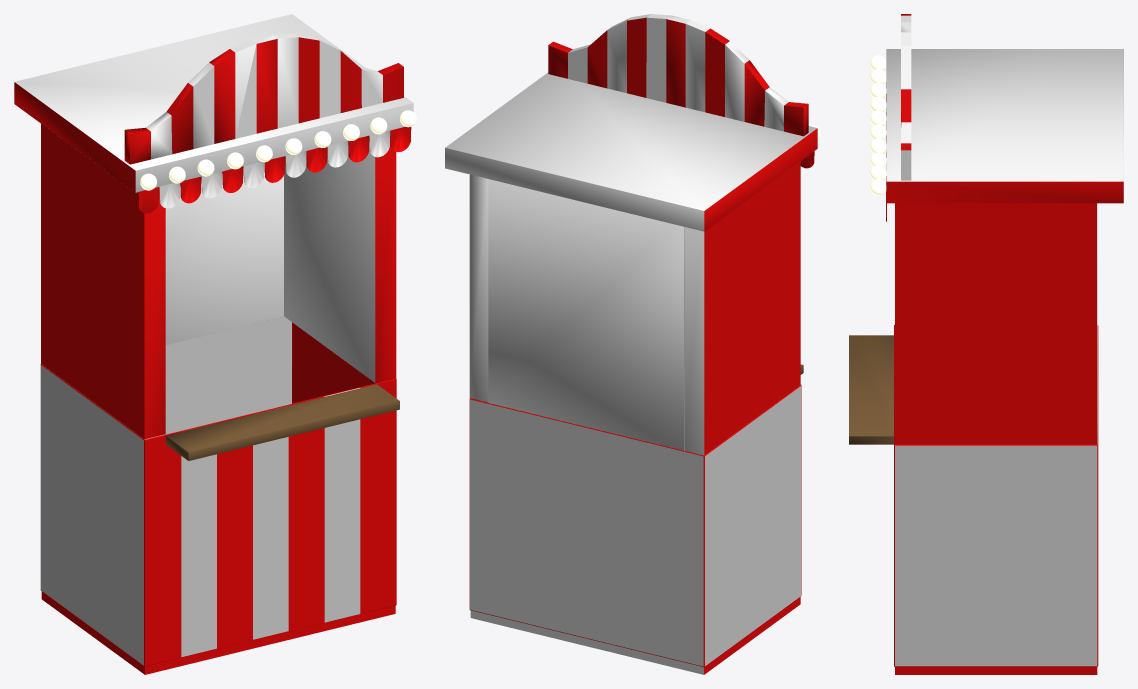
Rendered from gamebooth.glb.
3 renders of one model, left to right at view 1: azimuth 30°, elevation 25°; view 2: azimuth 150°, elevation 25°; view 3: azimuth 270°, elevation 25°, orthographic. The views are drawn at different scales.
Visible parts, largest first — view 1: boothBottom, wallRight, polySurface61, wallLeft, topSign, wallBack, shelf; view 2: boothBottom, wallBack, polySurface61, wallRight, topSign, wallLeft; view 3: wallLeft, boothBottom, polySurface61, shelf, topSign.
Part boxes in pixels (left/top/right/bottom): boothBottom: left=40, top=316, right=396, bottom=674; wallRight: left=41, top=124, right=165, bottom=439; polySurface61: left=14, top=14, right=413, bottom=192; wallLeft: left=284, top=136, right=396, bottom=382; topSign: left=124, top=33, right=403, bottom=164; wallBack: left=165, top=162, right=283, bottom=344; shelf: left=165, top=384, right=399, bottom=460; boothBottom: left=469, top=385, right=801, bottom=674; wallBack: left=488, top=179, right=684, bottom=450; polySurface61: left=445, top=72, right=817, bottom=231; wallRight: left=684, top=161, right=800, bottom=455; topSign: left=548, top=14, right=808, bottom=136; wallLeft: left=469, top=174, right=488, bottom=402; wallLeft: left=895, top=203, right=1097, bottom=444; boothBottom: left=894, top=325, right=1098, bottom=674; polySurface61: left=886, top=49, right=1123, bottom=203; shelf: left=849, top=335, right=893, bottom=444; topSign: left=901, top=14, right=911, bottom=180.
Bounding box in the file's own units: 1.6 × 3.3 × 1.4.
